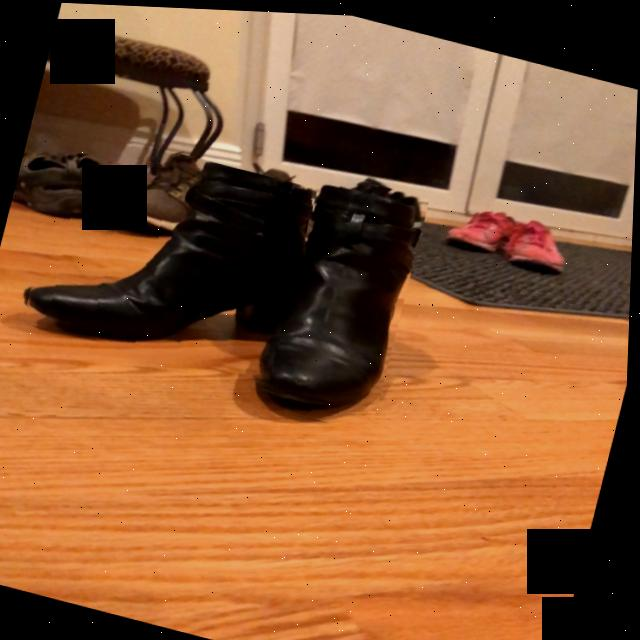shoe: (30, 160, 310, 340), (255, 178, 419, 412)
